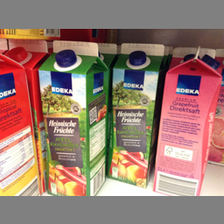juice: (38, 40, 110, 195), (154, 47, 222, 194), (108, 43, 166, 188)
